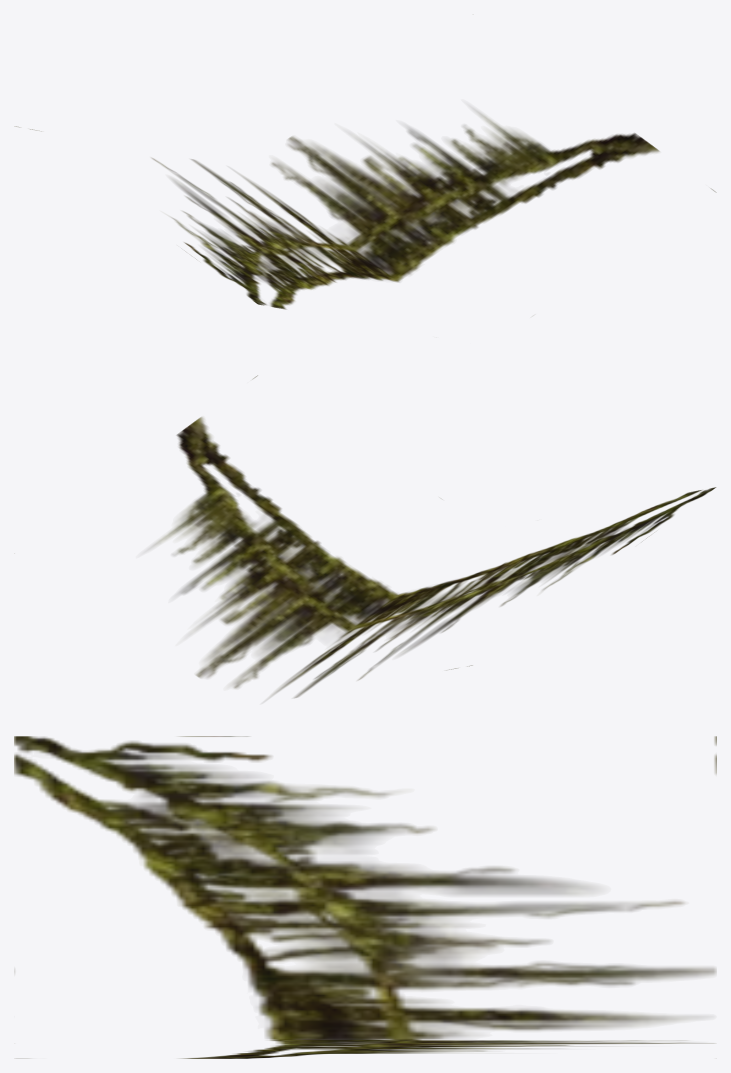
The picture shows the model from 3 angles, top to bottom: view 1: azimuth 30°, elevation 25°; view 2: azimuth 150°, elevation 25°; view 3: azimuth 270°, elevation 25°; orthographic projection. The views are drawn at different scales.
Visible parts, largest first — view 1: model_Object57; view 2: model_Object57; view 3: model_Object57.
Part boxes in pixels (x1,y1,x2,y2): model_Object57: [15, 110, 716, 309]; model_Object57: [151, 375, 716, 697]; model_Object57: [14, 736, 716, 1058].
Size of the model in its own units: 1.45 by 0.296 by 1.33.
1 material, 1 textured.
